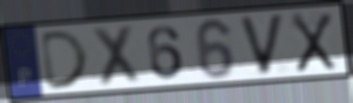6: (195, 16, 235, 82), (145, 24, 186, 80)
D: (39, 28, 92, 91)
V: (236, 12, 287, 78)
X: (90, 23, 143, 89), (289, 11, 338, 74)
